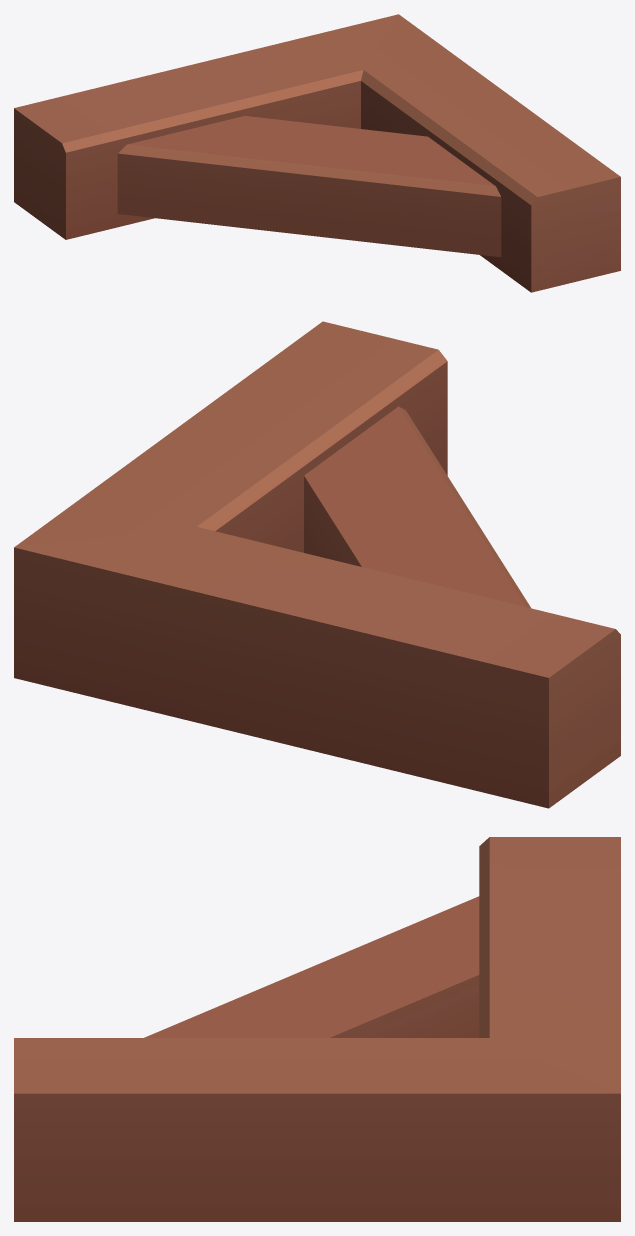
Rendered from scaffold_beam_corner.glb.
3 renders of one model, top to bottom at view 1: azimuth 30°, elevation 25°; view 2: azimuth 150°, elevation 25°; view 3: azimuth 270°, elevation 25°, orthographic. The views are drawn at different scales.
Visible parts, largest first — view 1: scaffold_beam_corner; view 2: scaffold_beam_corner; view 3: scaffold_beam_corner.
Boxes of the visible parts, bbox=[...] form: scaffold_beam_corner: bbox=[14, 14, 620, 292]; scaffold_beam_corner: bbox=[14, 321, 620, 808]; scaffold_beam_corner: bbox=[14, 837, 620, 1221].
Size of the model in its own units: 1.5 by 0.3499 by 1.5.
Materials: 1 (1 with a texture image).
